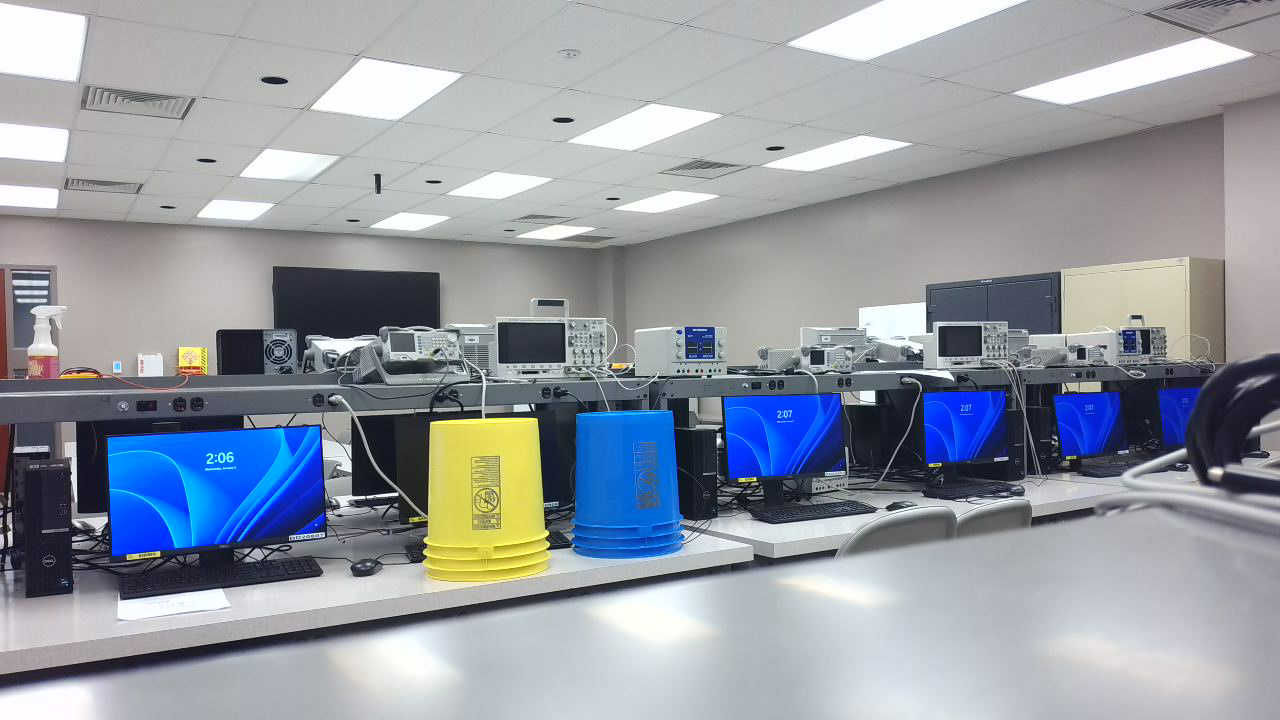blue_bucket: (569, 410, 696, 570)
yellow_bucket: (424, 416, 561, 591)
